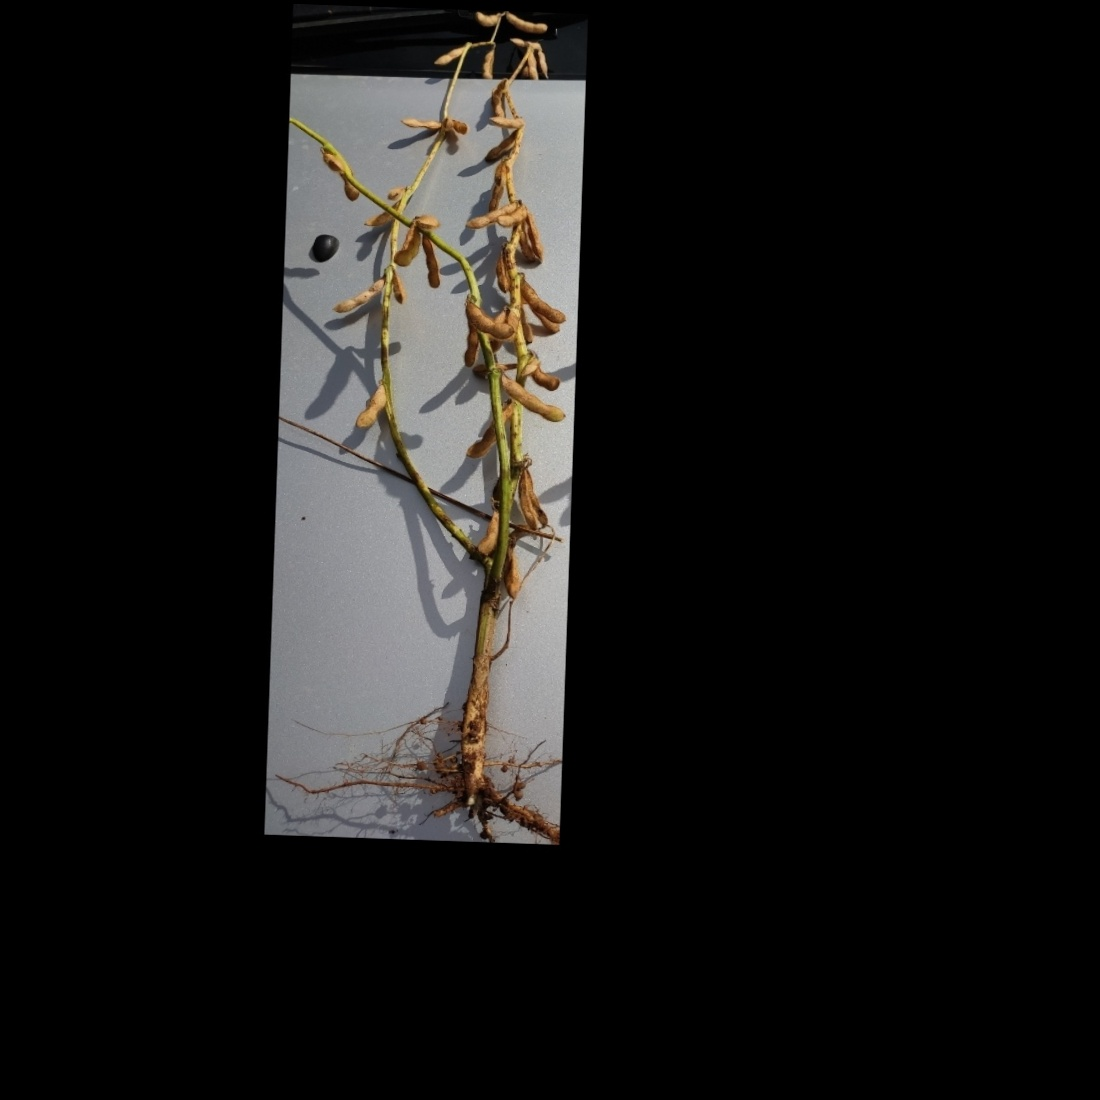pod: (498, 374, 567, 423), (519, 272, 572, 325), (328, 268, 384, 316), (463, 299, 517, 340), (463, 194, 519, 231), (497, 5, 553, 38), (416, 231, 443, 298), (353, 382, 387, 435), (477, 506, 503, 557), (431, 42, 469, 68), (399, 114, 445, 134), (478, 114, 524, 131), (477, 45, 496, 86)
soy: (285, 0, 584, 813)
